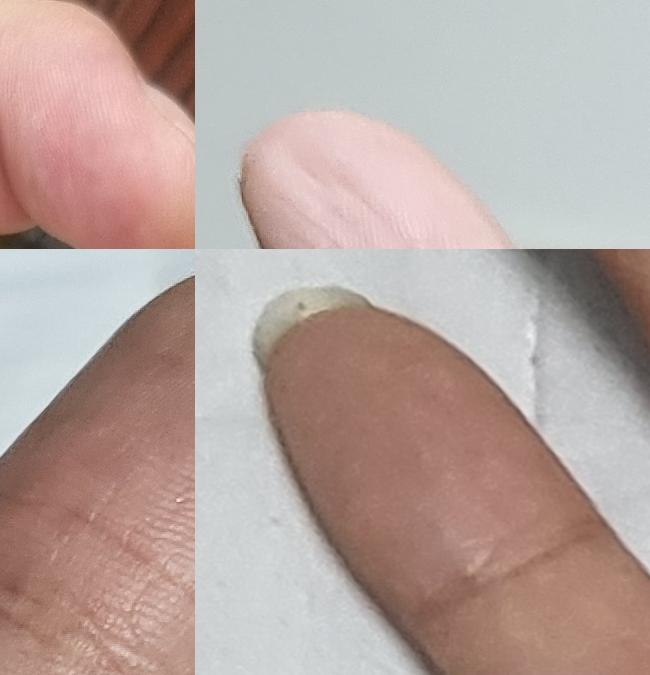Fingerprints: (264, 306, 606, 626), (0, 272, 195, 675), (0, 0, 195, 249), (240, 112, 515, 249)
